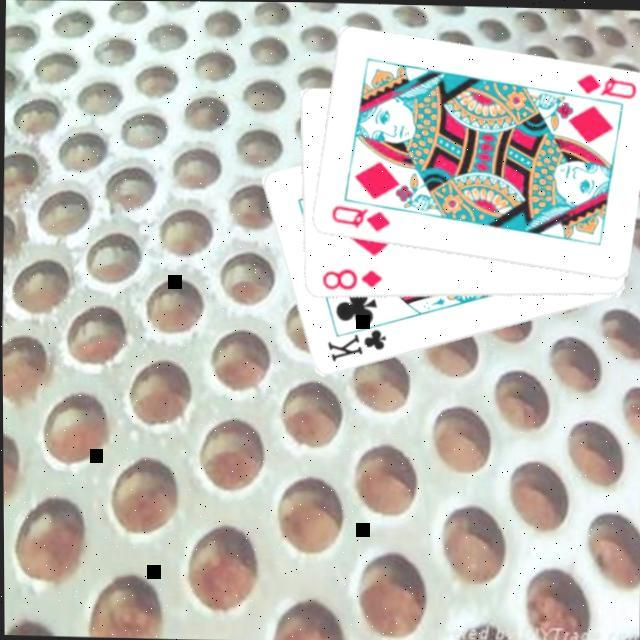8D: (317, 263, 383, 292)
KC: (320, 314, 390, 364)
QD: (326, 200, 392, 233), (570, 68, 638, 100)
